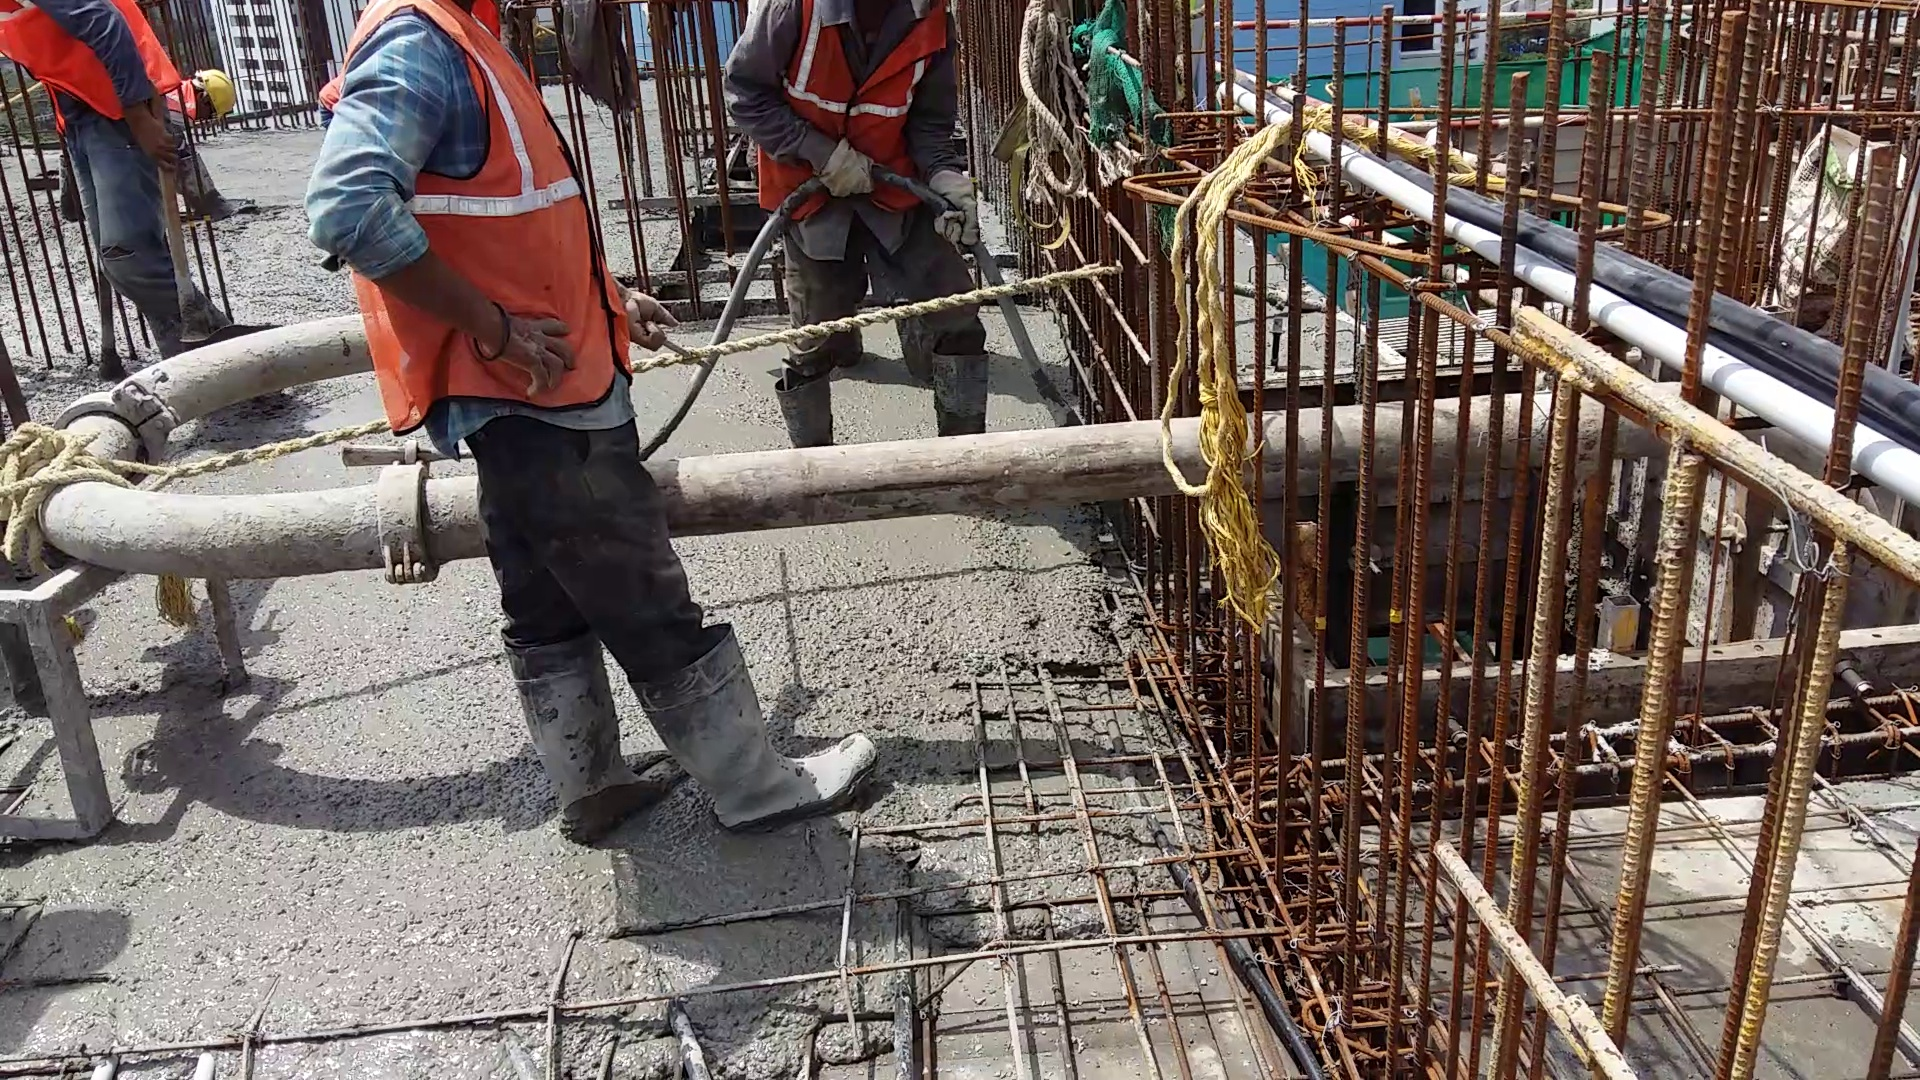NoHardhat: (332, 4, 628, 429), (749, 1, 963, 229)
